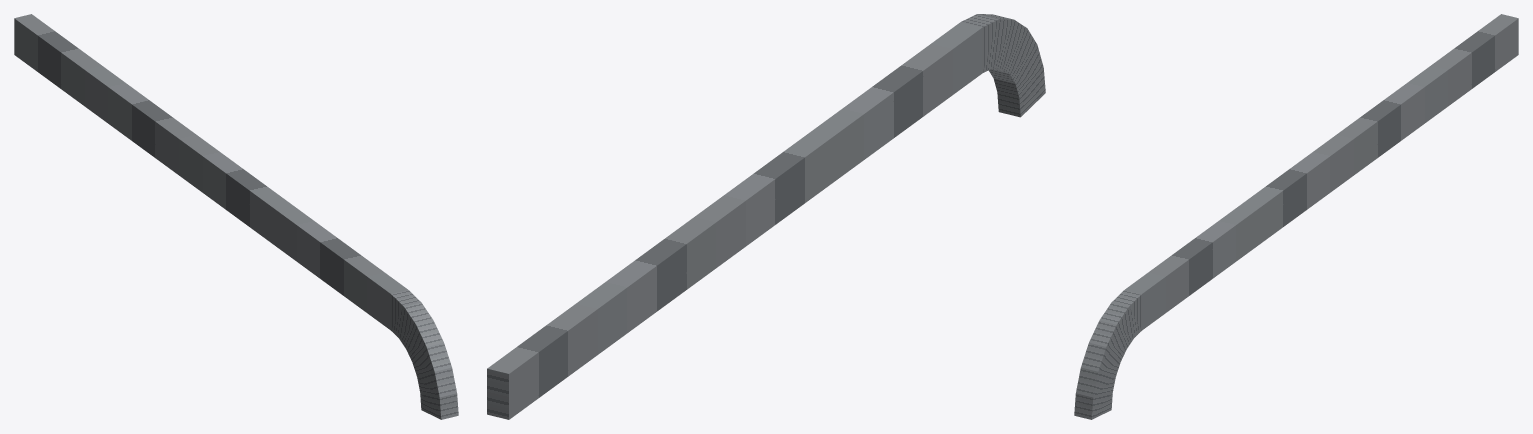
Rendered from sectional_track_cw_3.obj.
The picture shows the model from 3 angles, left to right: view 1: azimuth 30°, elevation 25°; view 2: azimuth 150°, elevation 25°; view 3: azimuth 330°, elevation 25°; orthographic projection. The views are drawn at different scales.
Visible parts, largest first — view 1: track; view 2: track; view 3: track.
Boxes of the visible parts, x1,y1,x2,y2 form: track: [14, 14, 458, 419]; track: [487, 14, 1045, 419]; track: [1074, 14, 1518, 419].
Size of the model in its own units: 0.0938 by 0.481 by 3.97.
